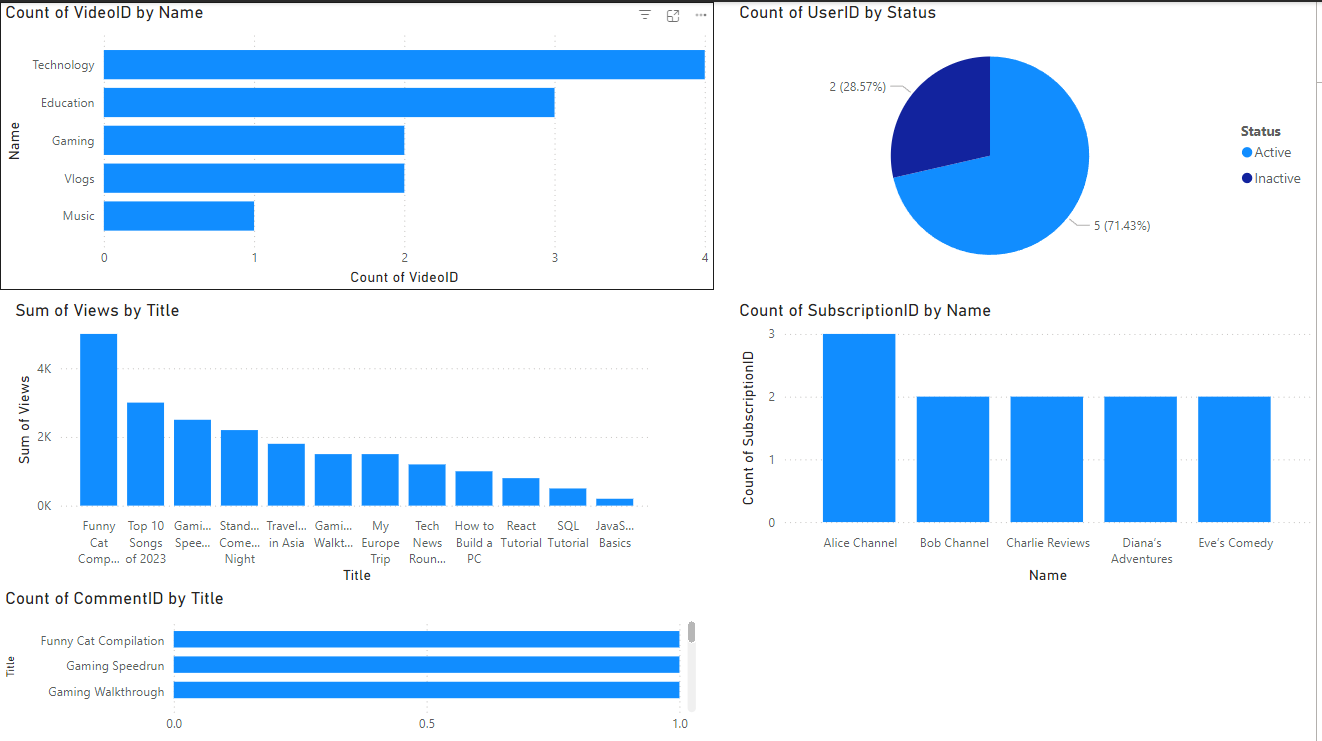

The page's visual inventory and layout, read from the dashboard file:
{"tool":"powerbi","page":{"name":"Page 1","canvas":[1280,720],"ordinal":0},"visuals":[{"type":"clusteredBarChart","fields":{"Category":["Category.Name"],"Y":["Video.VideoID"]},"box":[0,0,694.5,280.1],"z":0},{"type":"clusteredColumnChart","fields":{"Category":["Video.Title"],"Y":["Video.Views"]},"box":[10,290,630,280],"z":1000},{"type":"clusteredBarChart","fields":{"Category":["Video.Title"],"Y":["Comment.CommentID"]},"box":[0,570,681.8,149.8],"z":2000},{"type":"pieChart","fields":{"Category":["User.Status"],"Y":["User.UserID"]},"box":[714,0,566,280],"z":3000},{"type":"clusteredColumnChart","fields":{"Category":["Channel.Name"],"Y":["Subscription.SubscriptionID"]},"box":[714,290,566,280],"z":4000}]}

Visuals, with their boxes in screenshot pixels (x1, y1, x2, y2), scaled from the page's 1280x720 canvas onto the 1322x741 screenshot:
clusteredBarChart - Category.Name x Video.VideoID: bbox=(0, 0, 717, 288)
clusteredColumnChart - Video.Title x Video.Views: bbox=(10, 298, 661, 587)
clusteredBarChart - Video.Title x Comment.CommentID: bbox=(0, 587, 704, 740)
pieChart - User.Status x User.UserID: bbox=(737, 0, 1321, 288)
clusteredColumnChart - Channel.Name x Subscription.SubscriptionID: bbox=(737, 298, 1321, 587)
